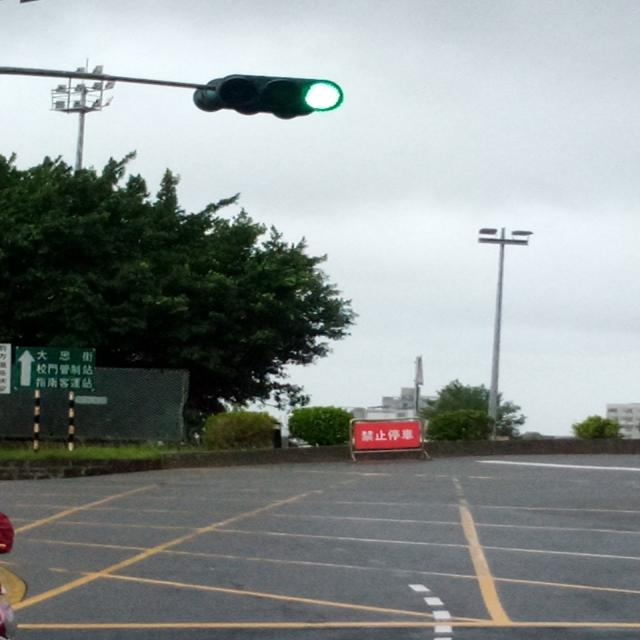green light: (192, 75, 344, 119)
